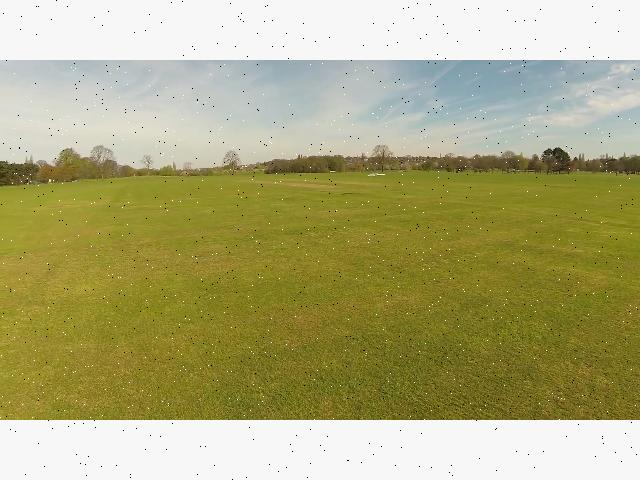Anti-Drone: (362, 165, 398, 183)
